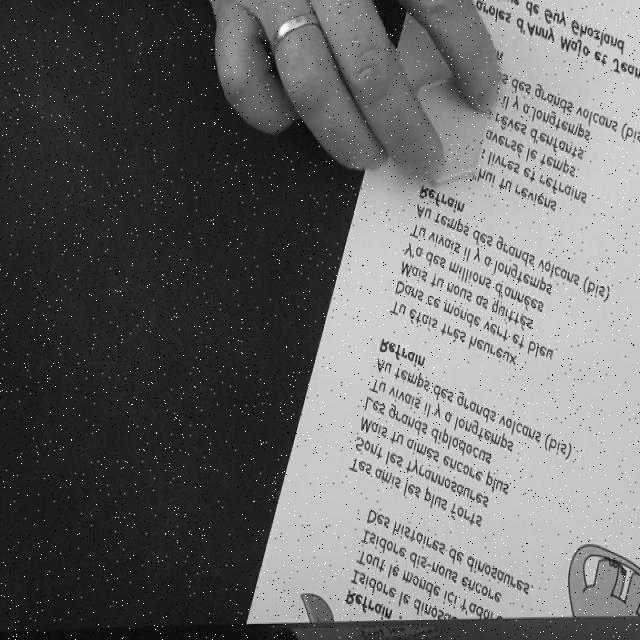hexagon: (405, 72, 496, 189)
